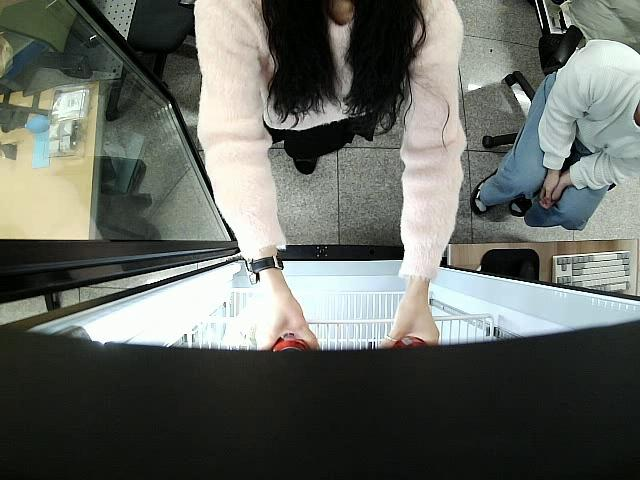00_hand: (254, 289, 323, 353), (377, 297, 443, 351)
11_cocaColaZero: (269, 331, 311, 352)
